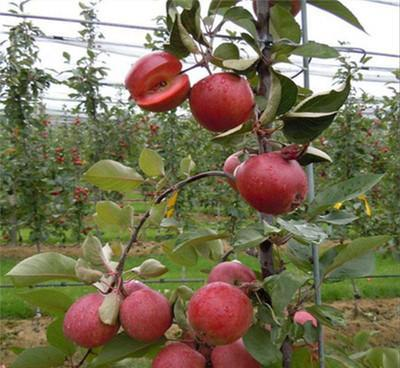apple: (232, 150, 308, 217), (188, 72, 258, 135), (187, 282, 254, 345), (124, 53, 190, 113), (64, 292, 116, 348), (119, 289, 175, 341), (206, 260, 260, 288)
